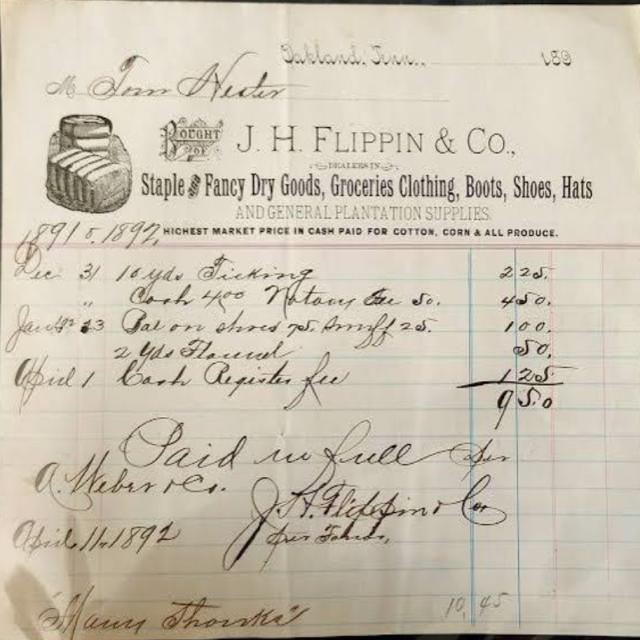items: (0, 242, 603, 389)
shop: (122, 112, 640, 210)
tot: (456, 387, 606, 443)
